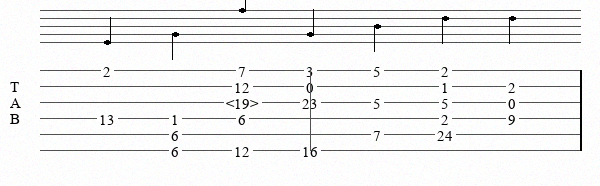0: (306, 79, 318, 93), (508, 95, 520, 109)
1: (171, 111, 183, 125), (441, 79, 453, 93)
12: (234, 143, 254, 157), (234, 79, 254, 93)
13: (99, 111, 119, 125)
16: (302, 143, 322, 157)
2: (103, 63, 115, 77), (441, 111, 453, 125), (441, 63, 453, 77), (508, 79, 520, 93)
23: (302, 95, 322, 109)
24: (437, 127, 457, 141)
3: (306, 63, 318, 77)
5: (373, 63, 385, 77), (373, 95, 385, 109), (441, 95, 453, 109)
6: (171, 143, 183, 157), (171, 127, 183, 141), (238, 111, 250, 125)
7: (238, 63, 250, 77), (373, 127, 385, 141)
9: (508, 111, 520, 125)
harmonic: (226, 95, 263, 109)
